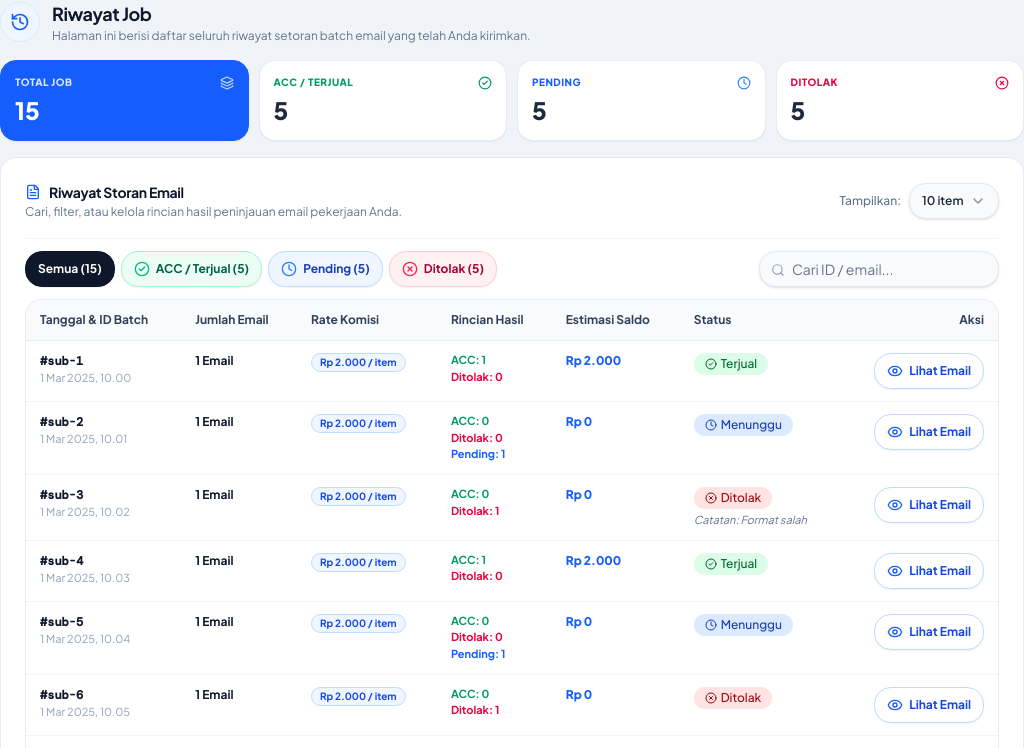
SubmissionHistory Component › filters submissions by search query
The image size is (1024, 748).
Type "test1@example.com" into the field with placeholder "Cari ID / email...".
click(879, 269); type("test1@example.com")  # box [759,251,999,287]
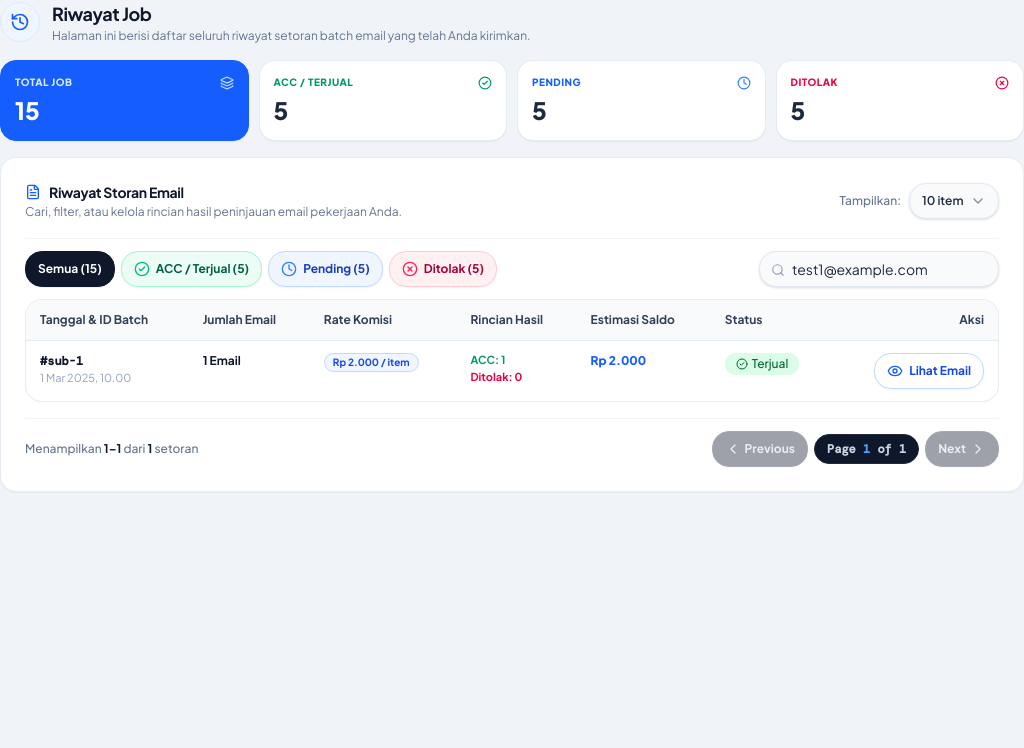
Expected: the element with test id "pagination-page-indicator" reads "Page 1 of 1", [814,434,919,464]
